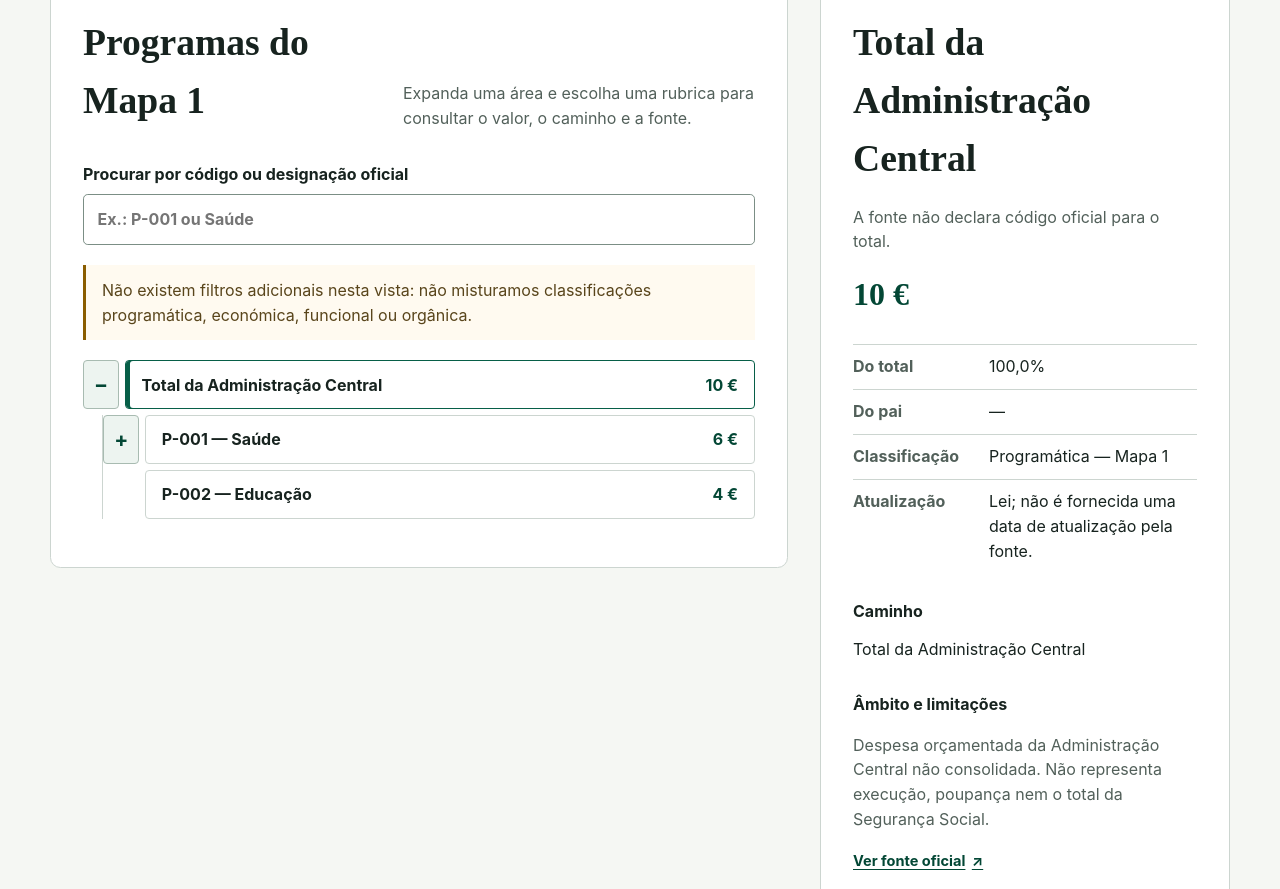
Scenario: ExplorePage › mostra árvore, ficha com caminho e fonte
(page scrolled)
expect the list named "Árvore orçamental por programas" is shown: met, box [83,360,755,519]
Click the button "P-001 — Saúde 6 €": point(197, 439) [145,415,755,464]
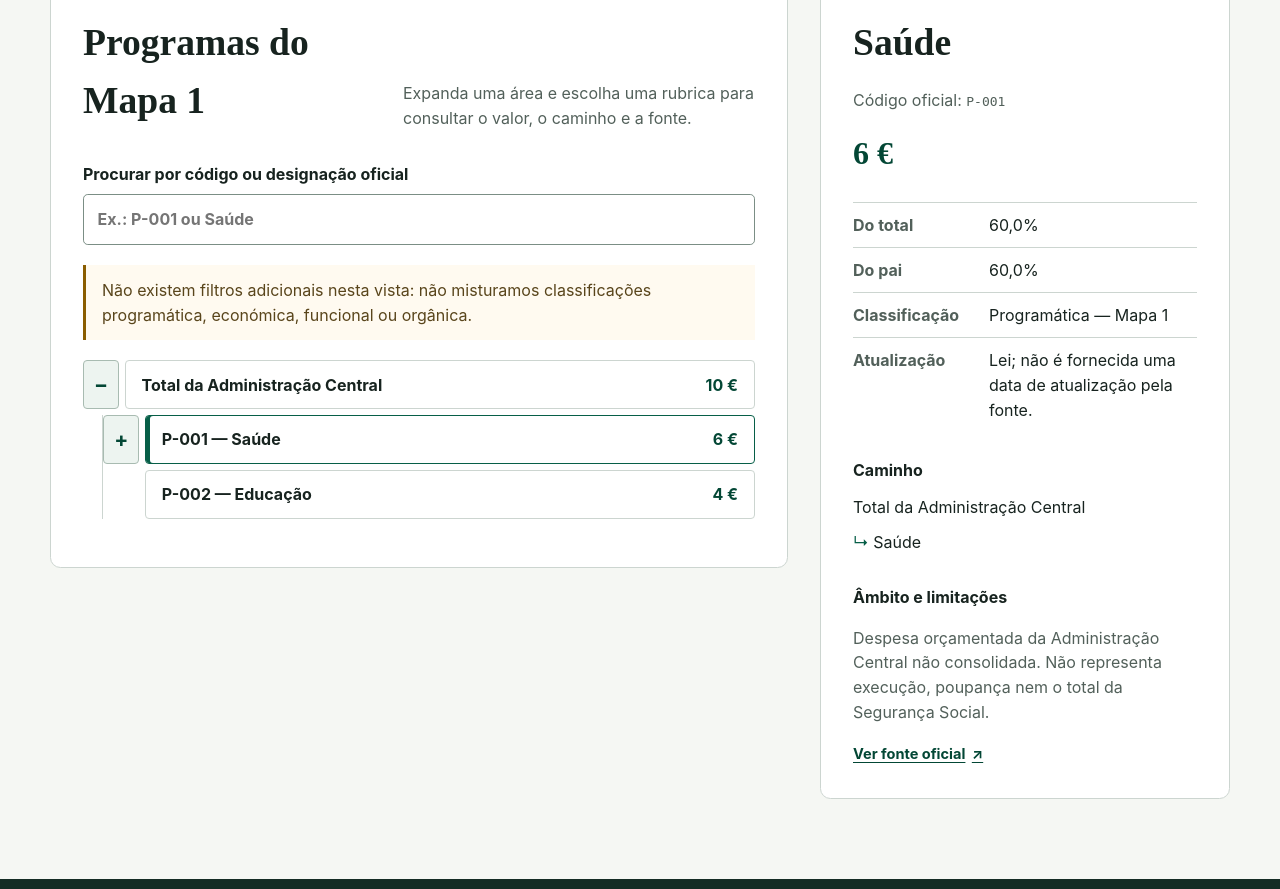
expect the text "Total da Administração Central" is shown 2 times: met, box [142,372,382,397]; [853,497,1085,517]
expect the heading "Saúde" is shown: met, box [853,22,951,63]
